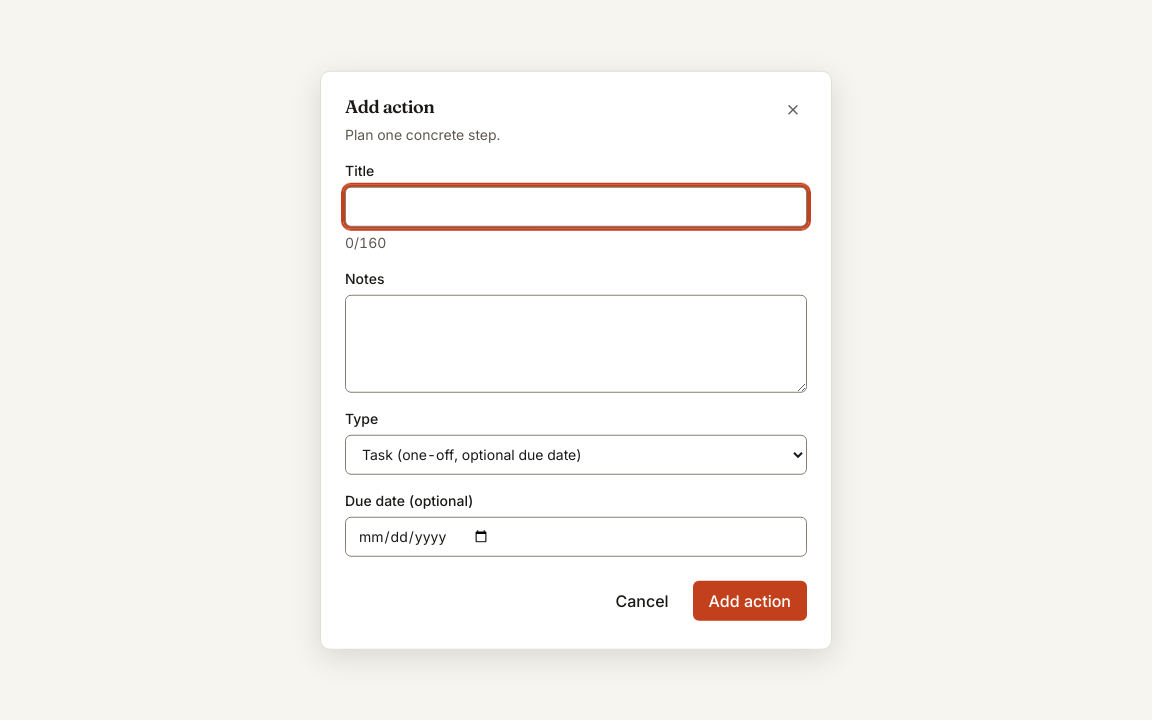
ActionEditorSheet › requires at least one weekday for routines
This screenshot has width=1152, height=720.
Type "Stretch" into the field labelled "Title". click: (576, 206)
box: [345, 186, 807, 226]
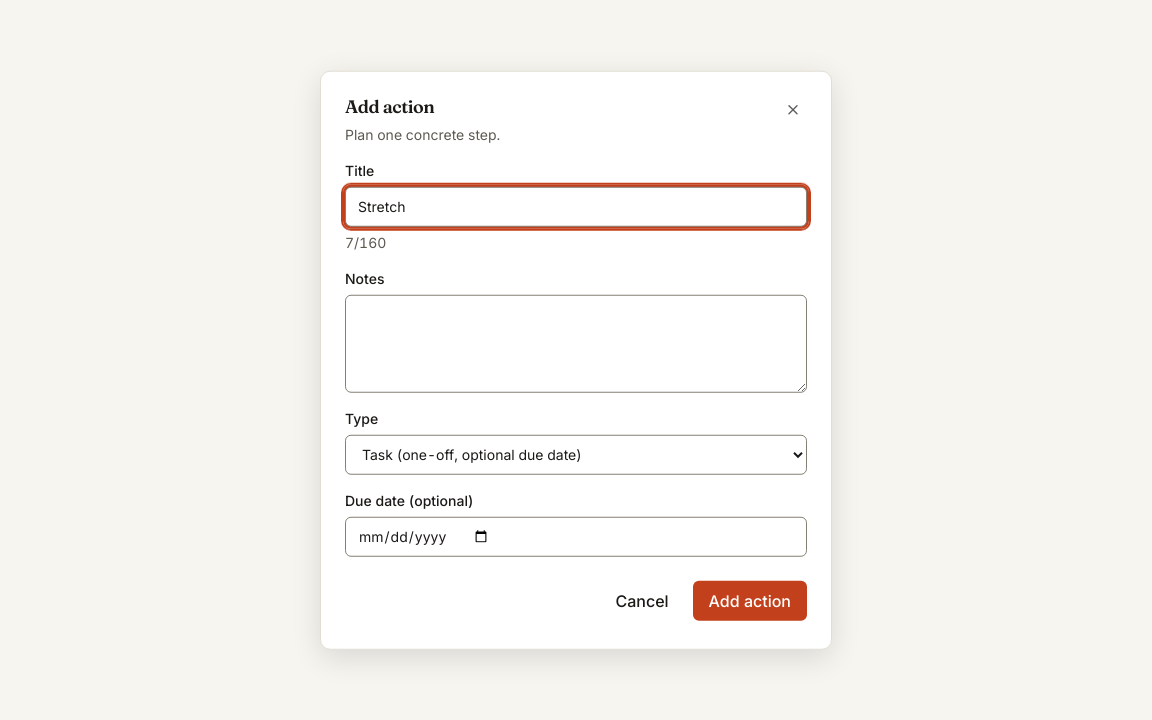
Select "Routine (repeats on a schedule)" in the dropdown labelled "Type". click: (576, 454)
box: [345, 434, 807, 474]
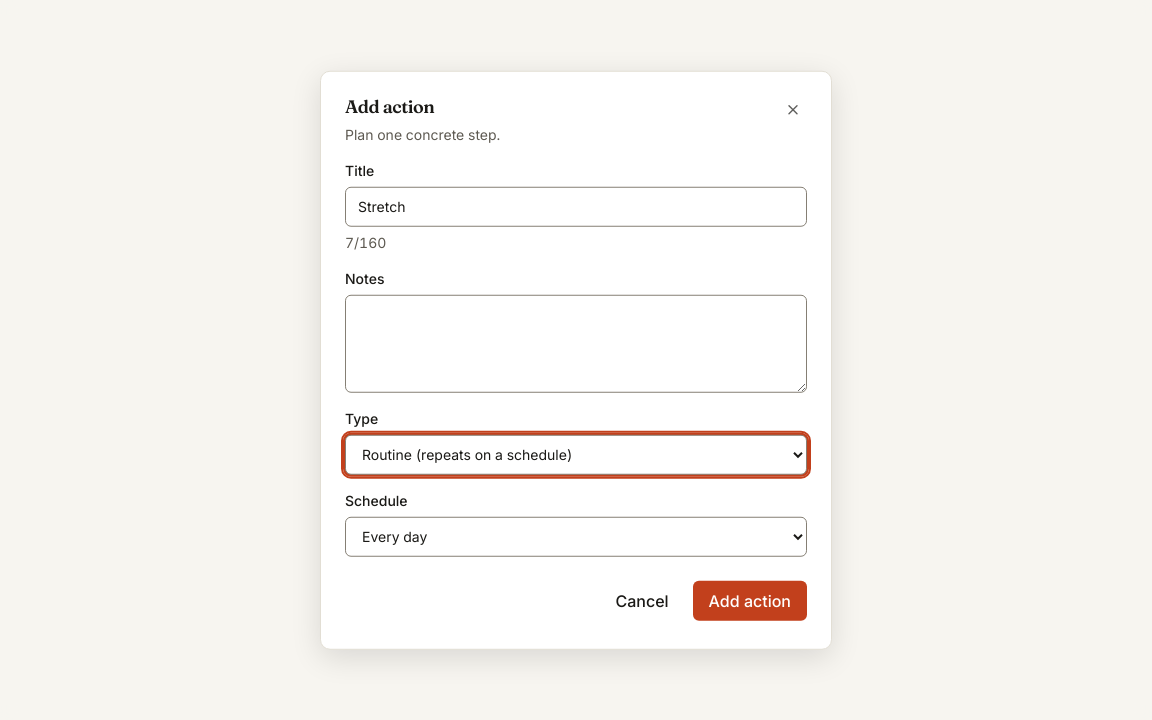
Select "Specific weekdays" in the dropdown labelled "Schedule". click: (576, 536)
box: [345, 516, 807, 556]
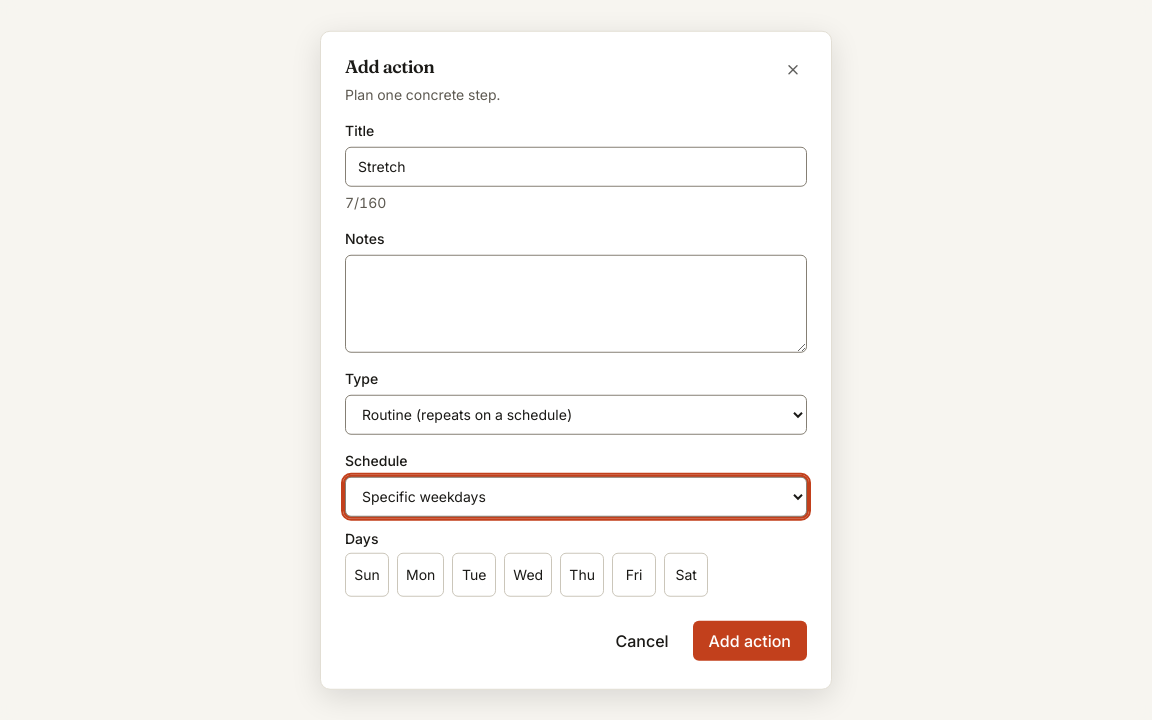
Click the button "Add action". click: (750, 640)
box: [693, 620, 807, 660]
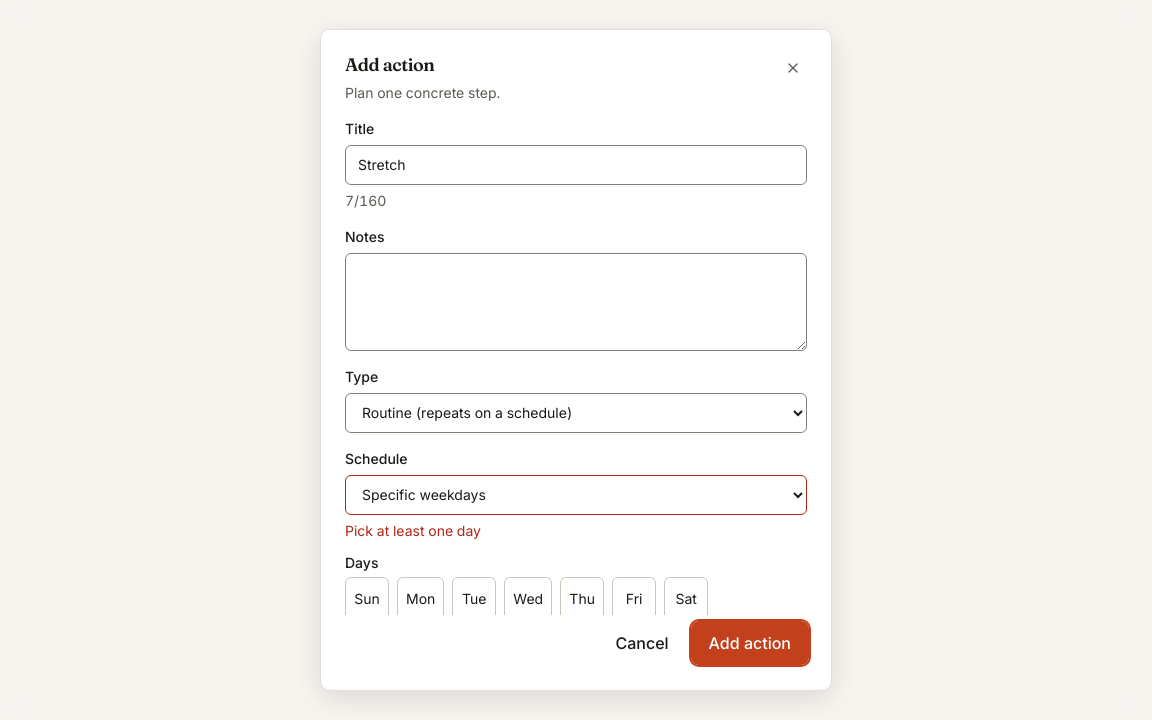
Check: the text "Pick at least one day" is shown, box [345, 521, 481, 538]
